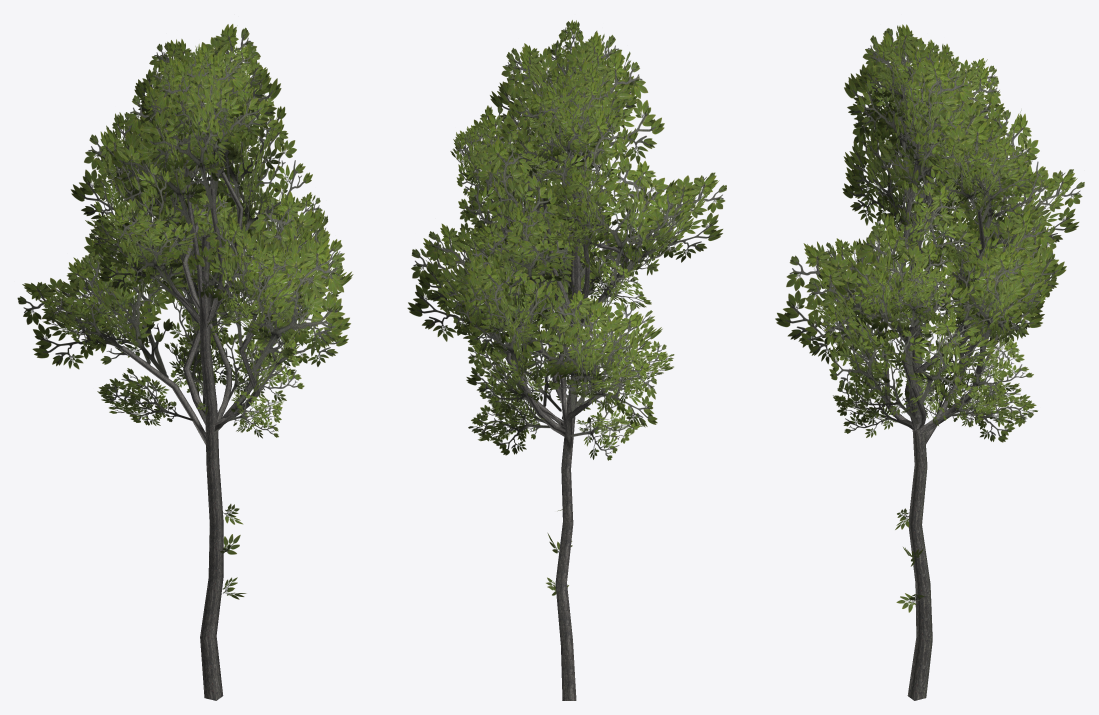
Rendered from tc_tree_small_a.glb.
The picture shows the model from 3 angles, left to right: view 1: azimuth 30°, elevation 25°; view 2: azimuth 150°, elevation 25°; view 3: azimuth 270°, elevation 25°; orthographic projection.
Visible parts, largest first — view 1: TreeCreator_Small_A__5_; view 2: TreeCreator_Small_A__5_; view 3: TreeCreator_Small_A__5_.
Part boxes in pixels (<box>): TreeCreator_Small_A__5_: <box>17,24,353,700</box>; TreeCreator_Small_A__5_: <box>407,20,726,700</box>; TreeCreator_Small_A__5_: <box>775,24,1084,700</box>.
Size of the model in its own units: 5.19 by 11.44 by 5.07.
2 materials, 2 textured.
